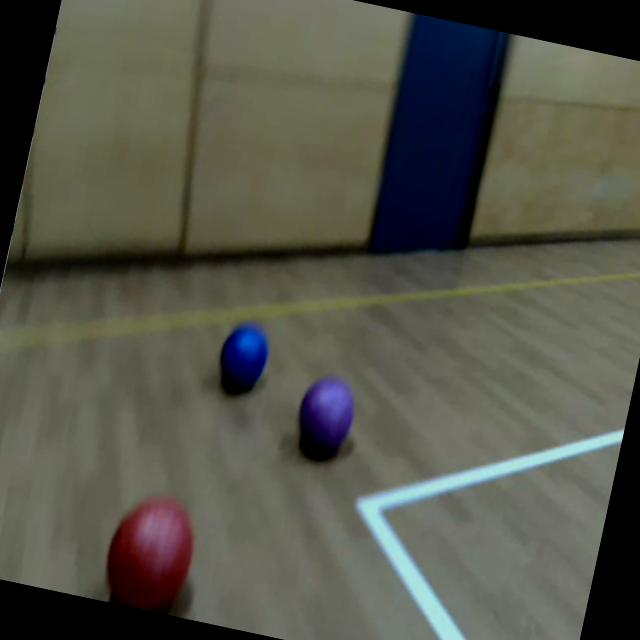blue_ball: (215, 318, 274, 391)
purple_ball: (292, 371, 361, 456)
red_ball: (98, 488, 204, 618)
